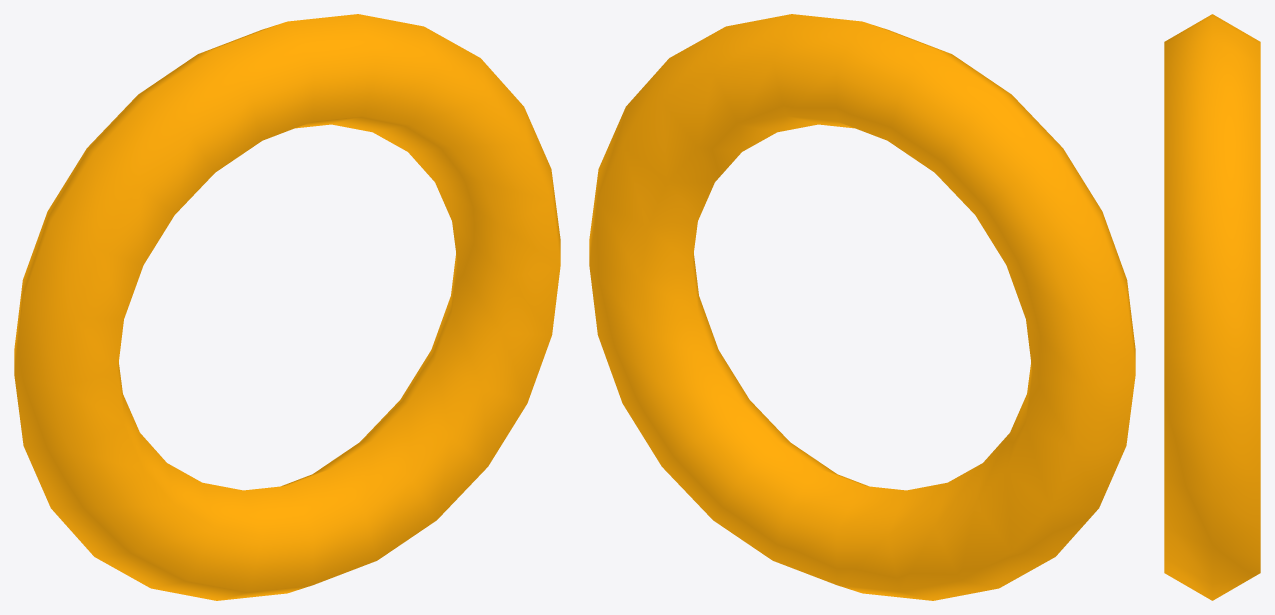
The model's file is ring_001.glb.
3 views of the same model, side by side, from view 1: azimuth 30°, elevation 25°; view 2: azimuth 150°, elevation 25°; view 3: azimuth 270°, elevation 25° (orthographic). The views are drawn at different scales.
Parts seen in each view (by area): view 1: ring_001; view 2: ring_001; view 3: ring_001.
Boxes of the visible parts, x1=… form: ring_001: x1=14, y1=14, x2=560, y2=600; ring_001: x1=589, y1=14, x2=1135, y2=600; ring_001: x1=1164, y1=14, x2=1260, y2=600.
Bounding box in the file's own units: 0.9695 × 0.9695 × 0.1588.
1 material, 1 textured.
